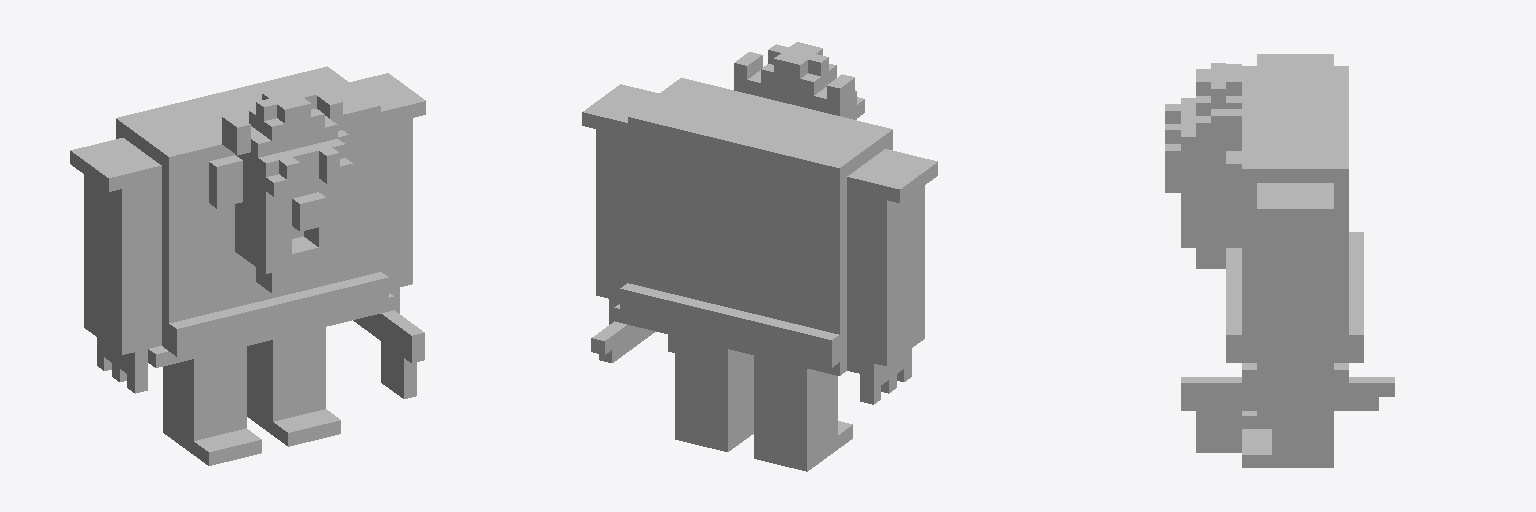
Rendered from enemy2.obj.
3 views of the same model, side by side, from view 1: azimuth 30°, elevation 25°; view 2: azimuth 150°, elevation 25°; view 3: azimuth 270°, elevation 25° (orthographic).
Parts seen in each view (by area): view 1: object 1; view 2: object 1; view 3: object 1.
Boxes of the visible parts, box(x1,y1,x2,y2) form: object 1: box(70, 66, 425, 465); object 1: box(582, 42, 937, 471); object 1: box(1165, 54, 1394, 467).
Bounding box in the file's own units: 2.4 × 2.6 × 1.5.